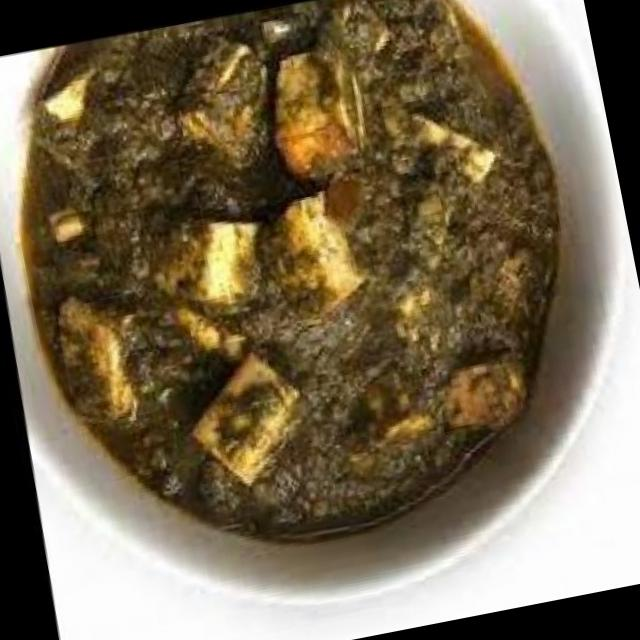palak_paneer: (0, 0, 617, 593)
